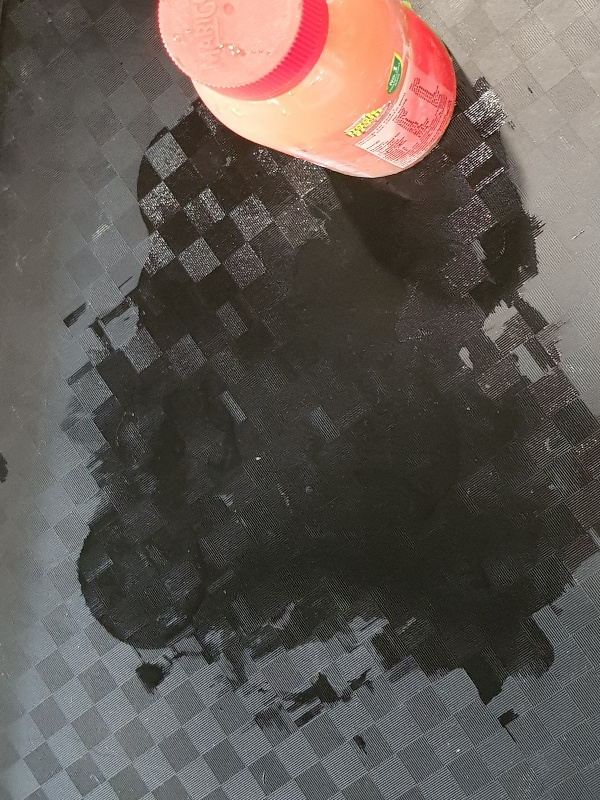Marigold Peel Fresh Pink Guava Juice Drink: (152, 1, 460, 181)
